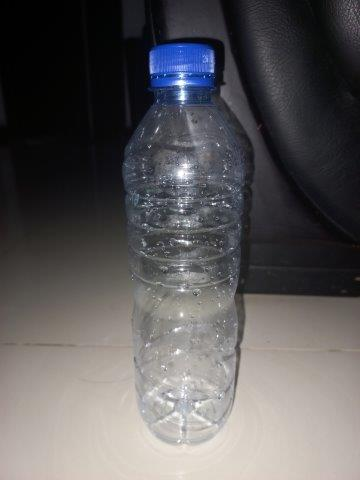botolplastik: (123, 42, 239, 440)
